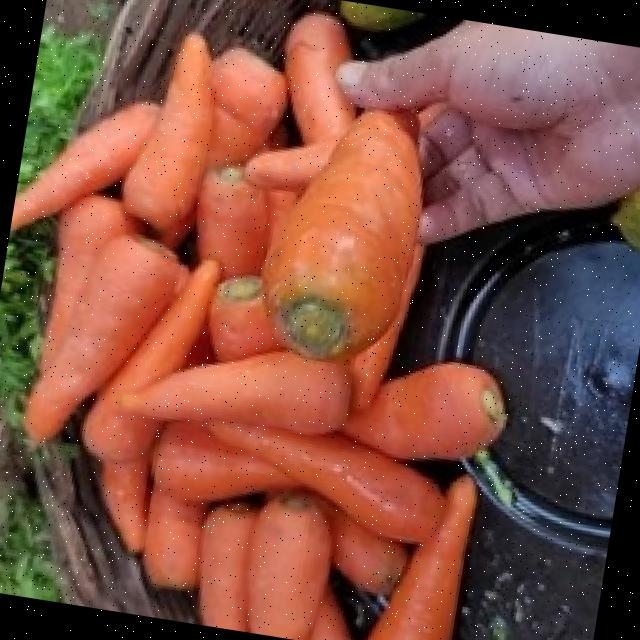carrot: (11, 18, 499, 640)
